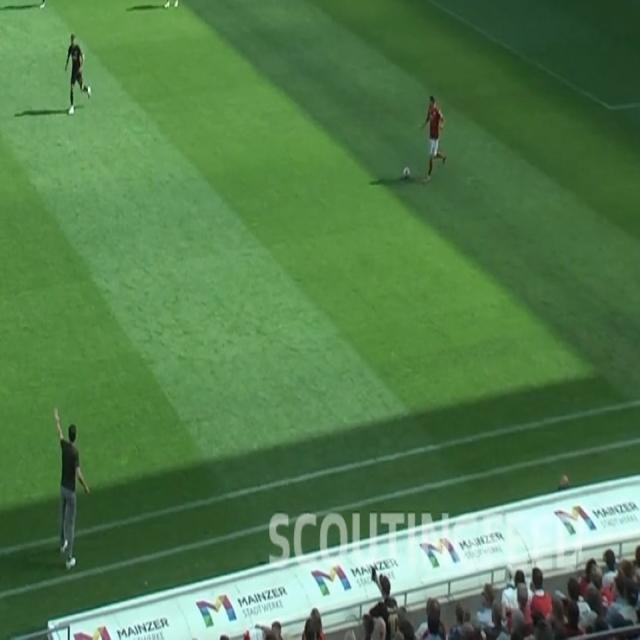ball: (401, 166, 410, 182)
